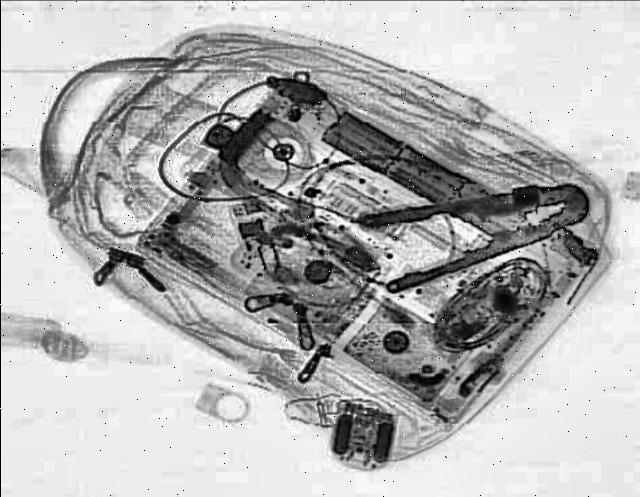Pliers: (349, 162, 605, 292)
